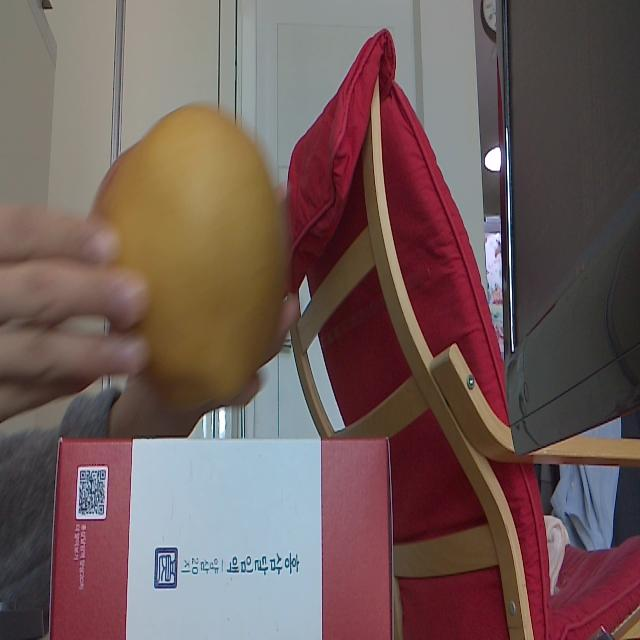pear: (88, 104, 284, 401)
